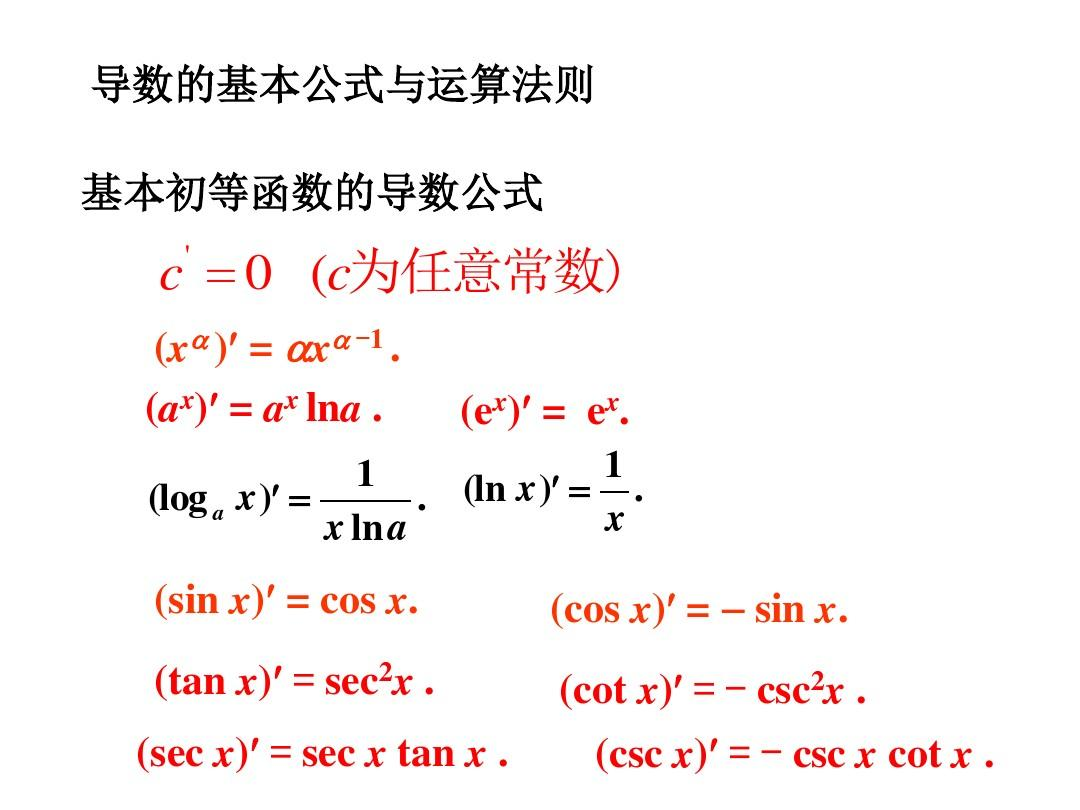division: (321, 495, 412, 511), (599, 484, 628, 500)
square: (376, 656, 394, 685), (807, 666, 826, 693)
